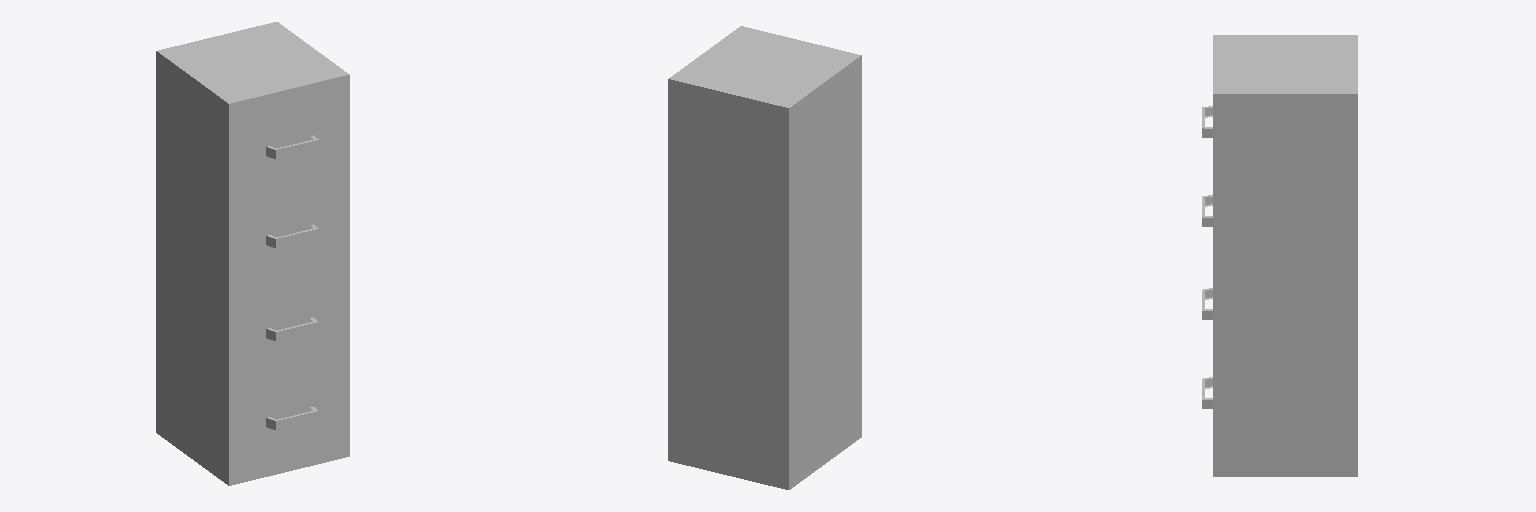
Rendered from filingcabinet.obj.
3 views of the same model, side by side, from view 1: azimuth 30°, elevation 25°; view 2: azimuth 150°, elevation 25°; view 3: azimuth 270°, elevation 25° (orthographic).
Visible parts, largest first — view 1: Cube_Cube.002; view 2: Cube_Cube.002; view 3: Cube_Cube.002.
Boxes of the visible parts, box(x1,y1,x2,y2) form: Cube_Cube.002: box(156, 22, 349, 485); Cube_Cube.002: box(668, 26, 861, 489); Cube_Cube.002: box(1202, 35, 1357, 476).
Bounding box in the file's own units: 1.65 × 4.98 × 1.86.